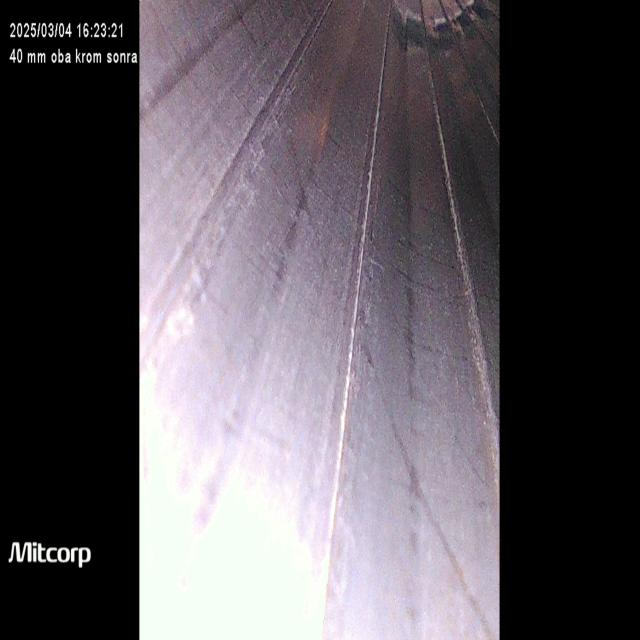hata_8.1: (305, 138, 496, 362)
